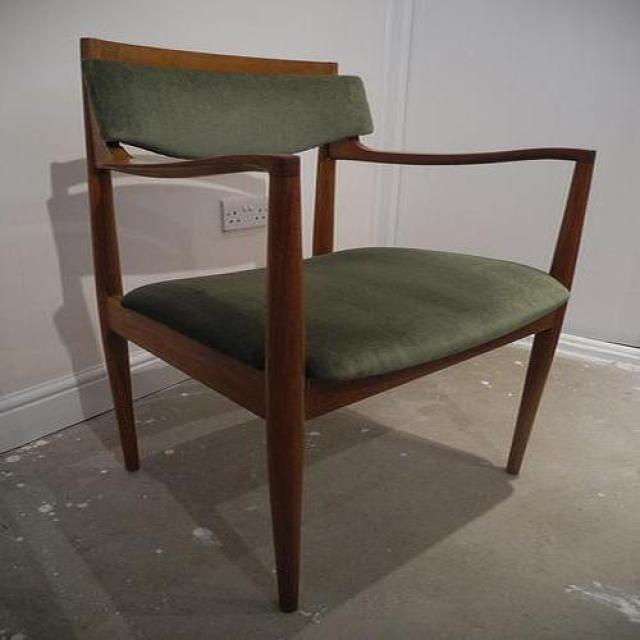chair: (79, 38, 596, 616)
